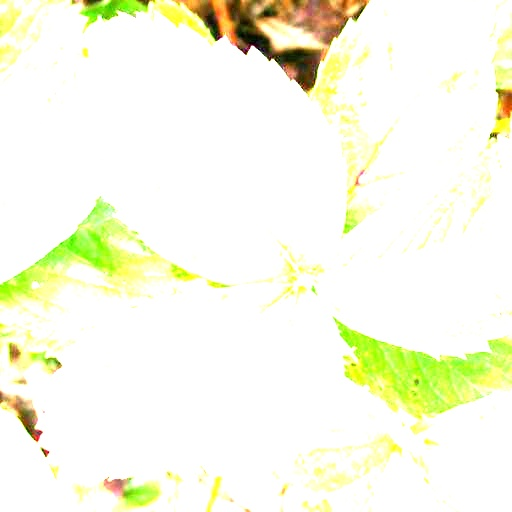Leaf Spot: (64, 9, 347, 288), (32, 284, 344, 488), (308, 0, 501, 236), (308, 139, 511, 361), (332, 314, 511, 422), (0, 408, 70, 511)
